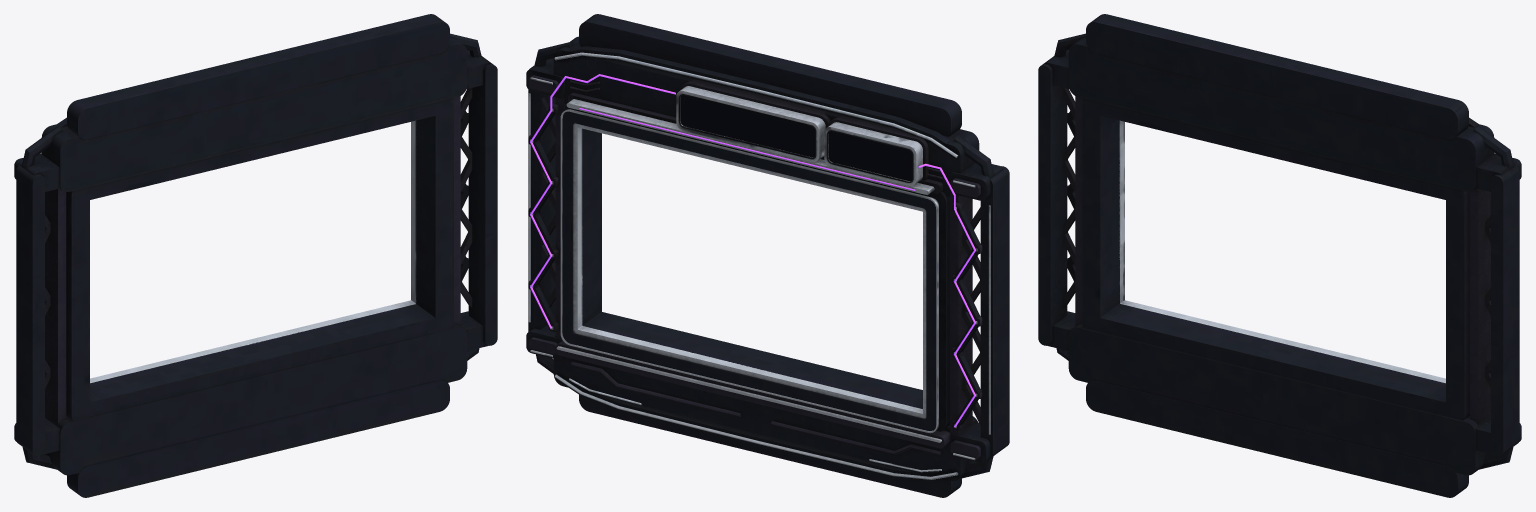
3 renders of one model, left to right at view 1: azimuth 30°, elevation 25°; view 2: azimuth 150°, elevation 25°; view 3: azimuth 330°, elevation 25°, orthographic.
Visible parts, largest first — view 1: Graphite_neural_chassis, Black_ceramic_facets, Platinum_signal_alloy; view 2: Graphite_neural_chassis, Platinum_signal_alloy, Black_ceramic_facets, Uniform_display_face, Violet_pulse_glow; view 3: Graphite_neural_chassis, Black_ceramic_facets, Platinum_signal_alloy.
Boxes of the visible parts, x1,y1,x2,y2 form: Graphite_neural_chassis: (14,14,497,497); Black_ceramic_facets: (45,88,472,424); Platinum_signal_alloy: (90,120,416,383); Graphite_neural_chassis: (526,14,1009,497); Platinum_signal_alloy: (528,52,990,479); Black_ceramic_facets: (528,75,982,459); Uniform_display_face: (681,95,912,181); Violet_pulse_glow: (530,74,975,427); Graphite_neural_chassis: (1038,14,1521,497); Black_ceramic_facets: (1063,88,1490,424); Platinum_signal_alloy: (1119,120,1445,383).
Size of the model in its own units: 10.99 by 8.8 by 1.23.
Materials: 5 (4 with a texture image).
